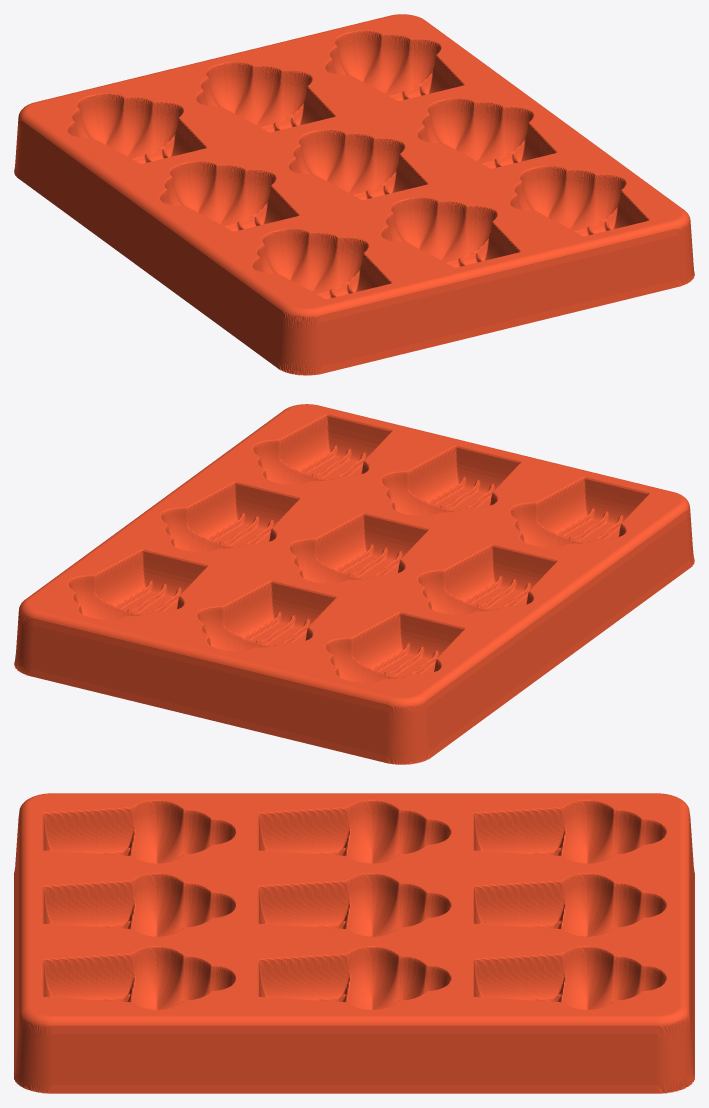
The model's file is mold.glb.
3 views of the same model, one above another, from view 1: azimuth 30°, elevation 25°; view 2: azimuth 150°, elevation 25°; view 3: azimuth 270°, elevation 25° (orthographic). The views are drawn at different scales.
Visible parts, largest first — view 1: geometry_0; view 2: geometry_0; view 3: geometry_0.
Boxes of the visible parts, left/top/right/bottom form: geometry_0: left=14, top=14, right=694, bottom=375; geometry_0: left=14, top=404, right=694, bottom=764; geometry_0: left=14, top=793, right=694, bottom=1093.
Bounding box in the file's own units: 0.1299 × 0.0185 × 0.1595.
